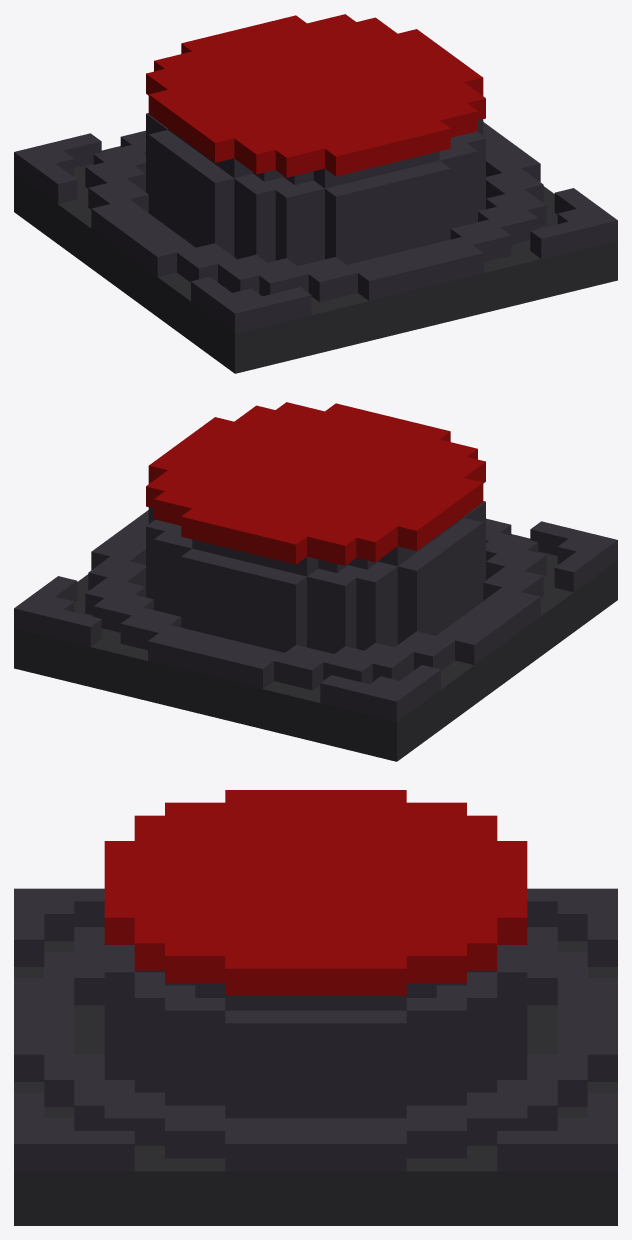
The model's file is Button_Press.obj.
3 views of the same model, one above another, from view 1: azimuth 30°, elevation 25°; view 2: azimuth 150°, elevation 25°; view 3: azimuth 270°, elevation 25° (orthographic). The views are drawn at different scales.
Bounding box in the file's own units: 2 × 0.8 × 2.
Materials: 1 (1 with a texture image).
